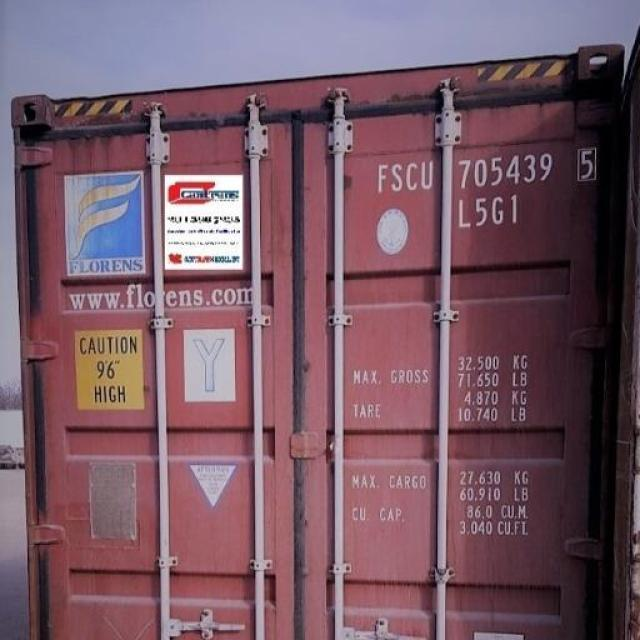ISO: (465, 197, 523, 226)
container_number: (378, 153, 593, 191)
